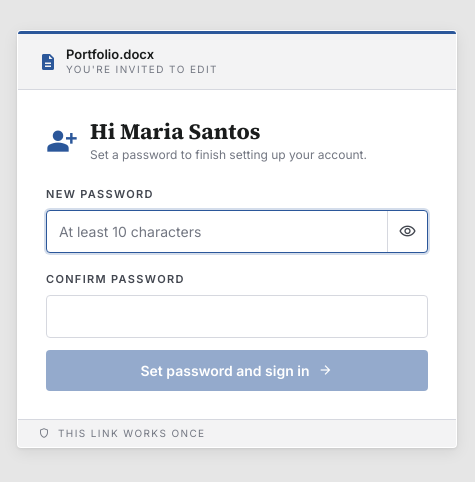
Scenario: shows the server's error instead of signing in when the link was already redeemed
The width and height of the screenshot is (475, 482).
Expected: the heading "Hi Maria Santos" is shown, [90,116,260,146]
Step 1. Type "a-long-enough-password" into the password field with placeholder "At least 10 characters" → (217,231), box [47,211,387,252]
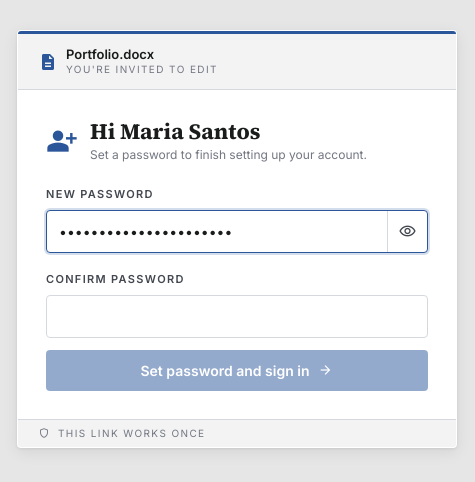
Step 2. Type "a-long-enough-password" into the password field labelled "Confirm password" → (237,316), box [46,295,428,338]
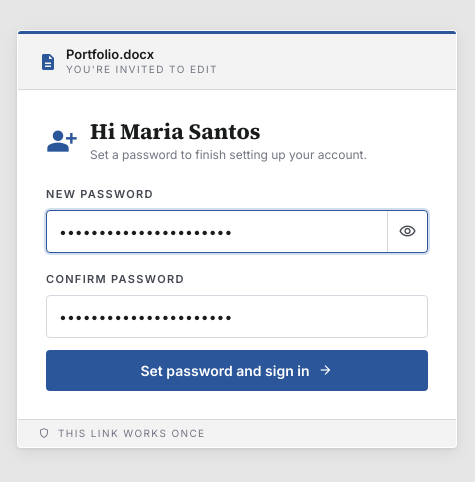
Step 3. Click the button "Set password and sign in" → (237,370), box [46,350,428,391]
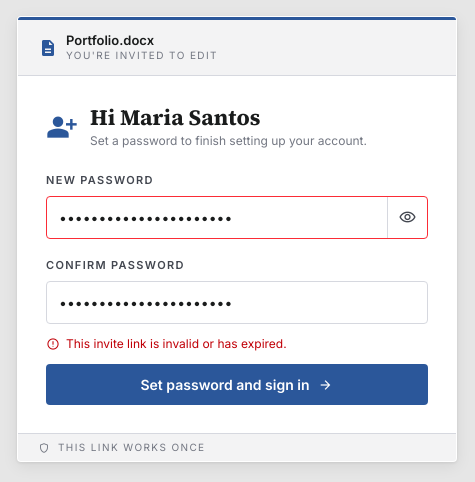
Now the message reads "This invite link is invalid or has expired.", box [66,336,287,351]
